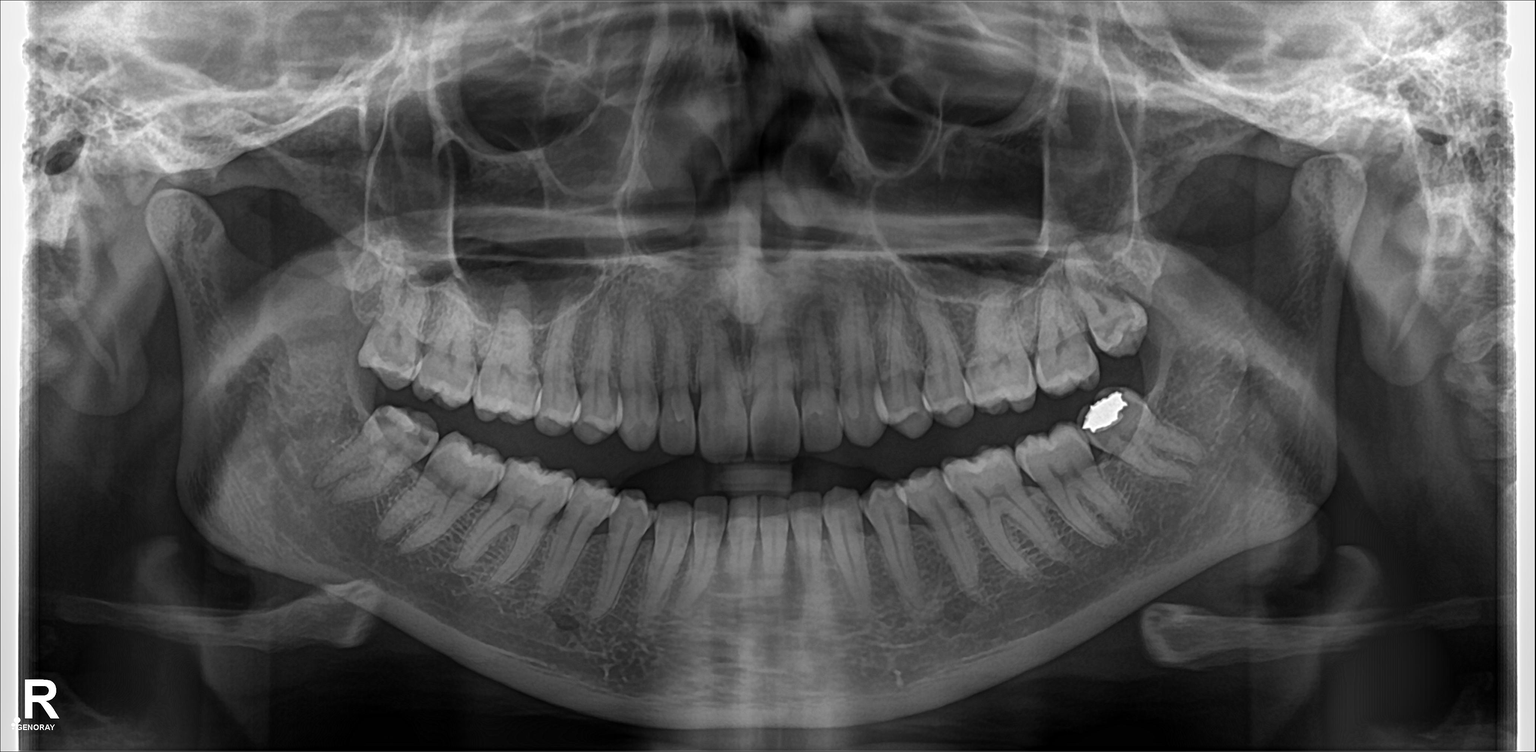Impacted Third Molar: (341, 411, 434, 505), (1084, 406, 1219, 469), (1078, 266, 1165, 350)
